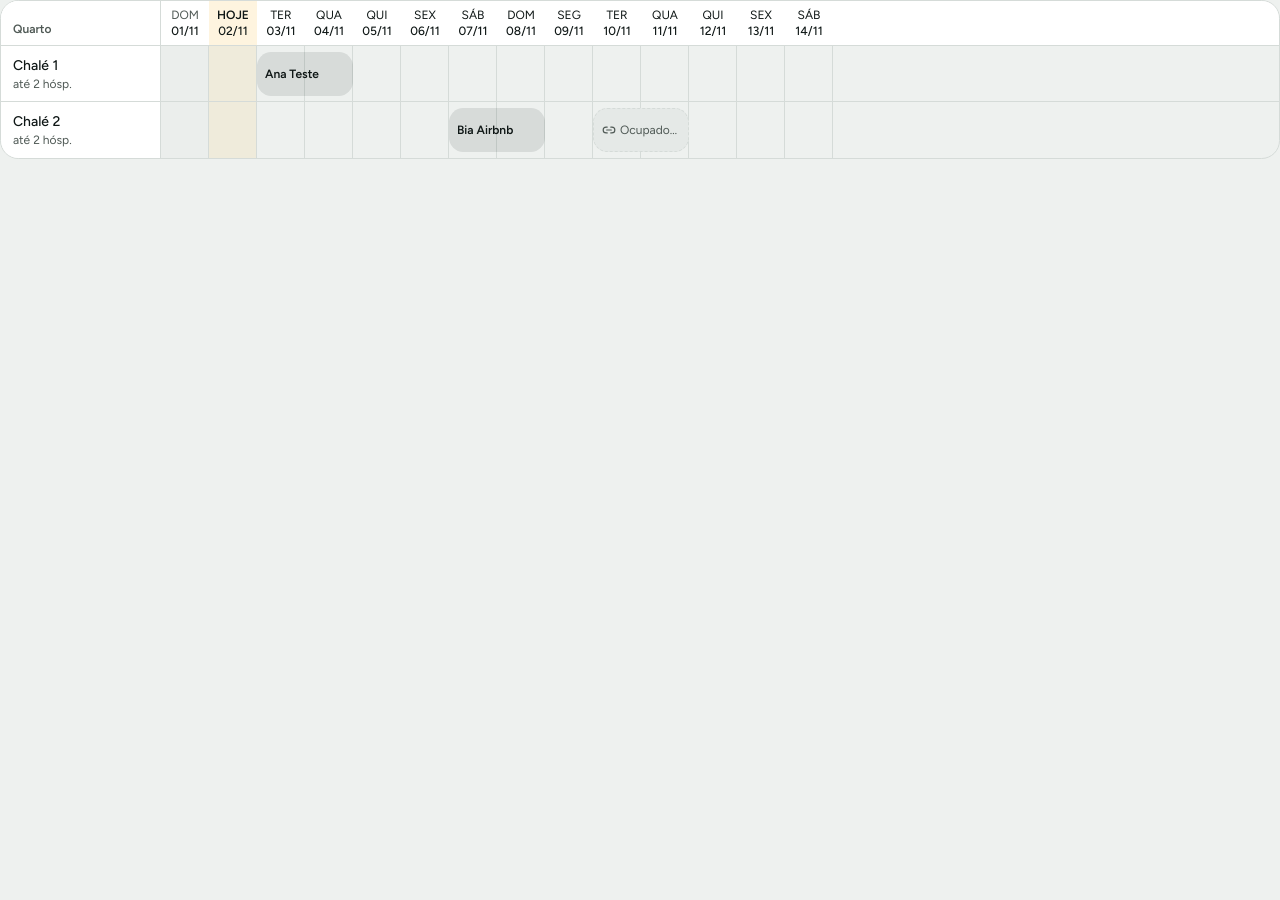
Scenario: mapa de ocupação › arrastar com o mouse abre a confirmação com o destino
Press the mouse on the button with aria-label "Ana Teste, Chalé 1" at (305, 74), box [257,52,353,96]
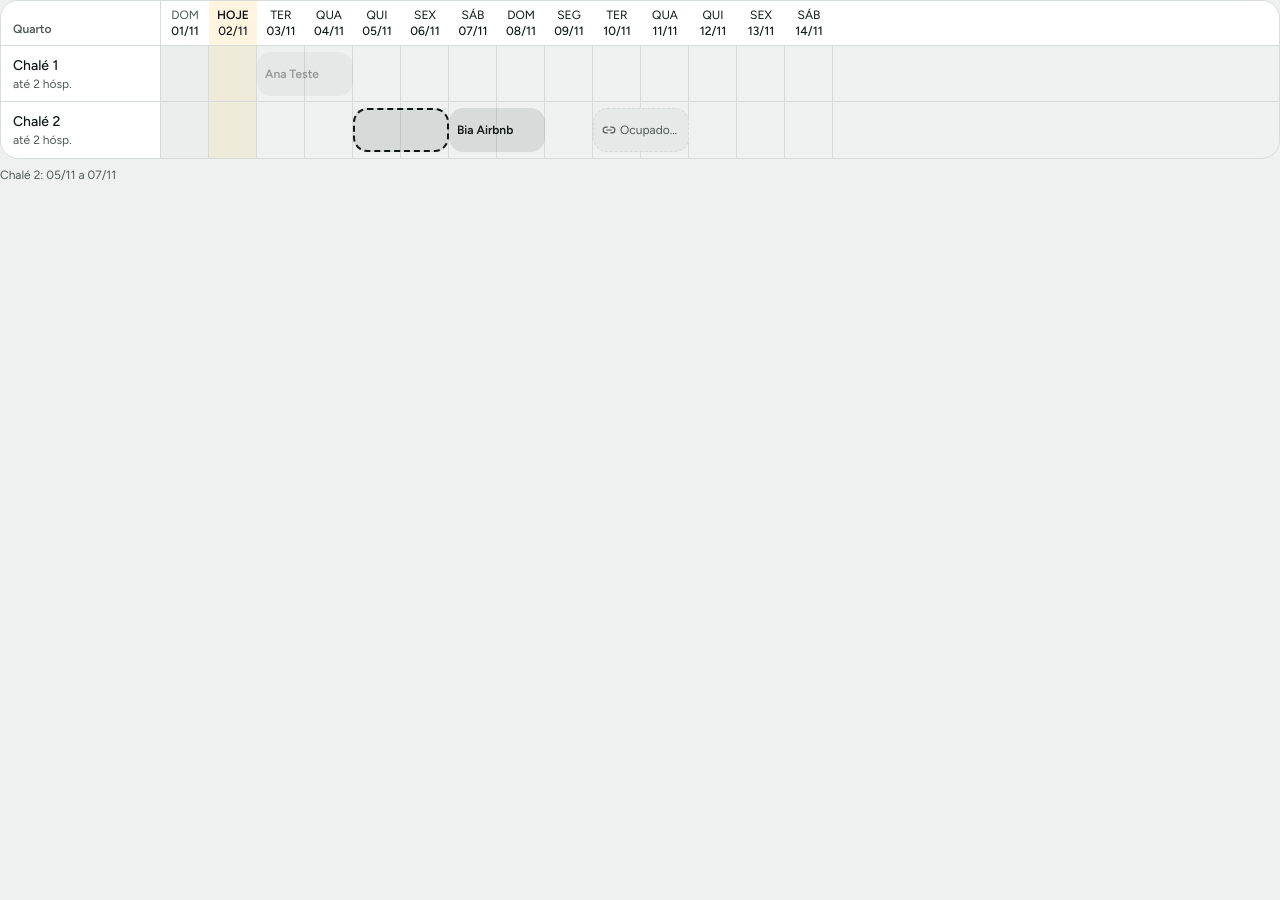
Now the text "Chalé 2: 05/11 a 07/11" is shown, box [0,168,116,182]
Click the button with aria-label "Ana Teste, Chalé 1" at (305, 74), box [257,52,353,96]
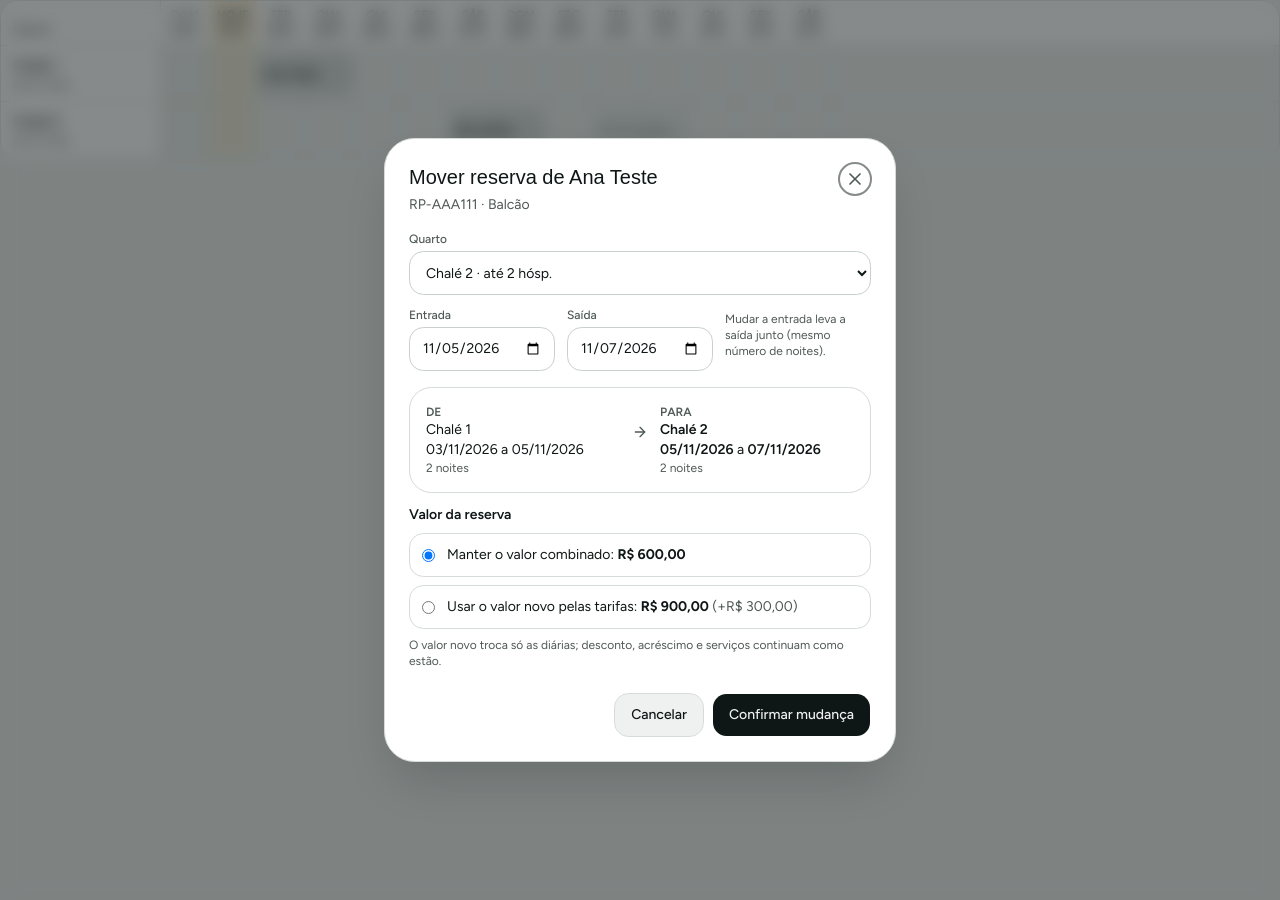
Now the heading "Mover reserva de Ana Teste" is shown, box [409,163,658,191]
Now the date field labelled "Entrada" holds "2026-11-05", box [409,327,555,371]
Now the dropdown shows "Chalé 2 · até 2 hósp.", box [409,251,871,295]
